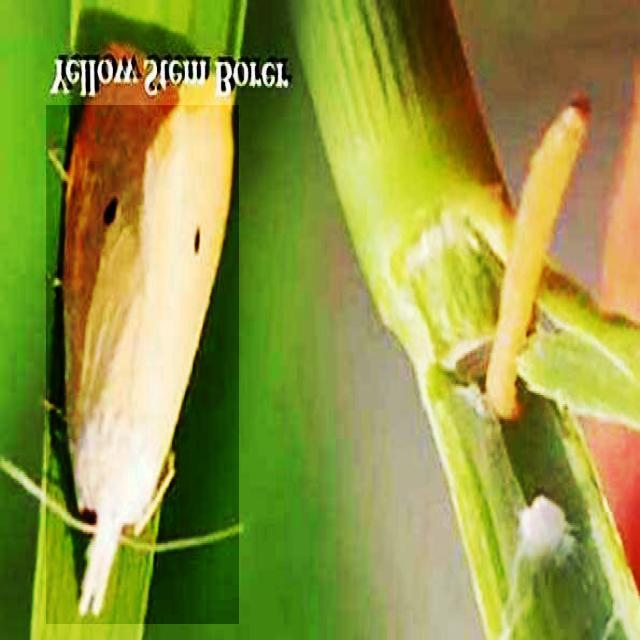stem-borer: (46, 105, 239, 624)
